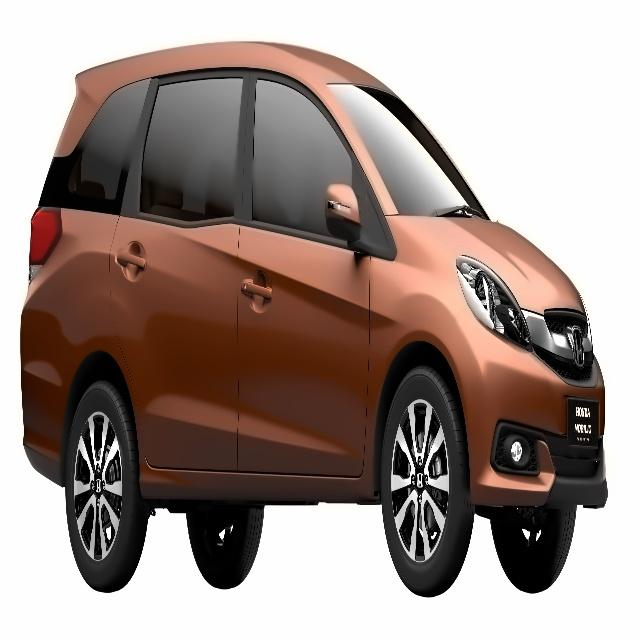Car hood: (387, 210, 588, 317)
Driver-s door - -F-R-: (229, 33, 376, 513)
Fender - -F-R-: (353, 200, 467, 457)
Fender - -R-R-: (21, 207, 121, 385)
Front bumper: (451, 359, 611, 513)
Headlight - -R-: (451, 250, 531, 354)
Passenger-s door - -R-R-: (107, 25, 253, 522)
Rear bumper: (13, 361, 82, 494)
Rear light - -R-: (26, 204, 63, 282)
Side bumper - -R-: (128, 450, 386, 515)
Side mirror - -R-: (324, 181, 372, 260)
